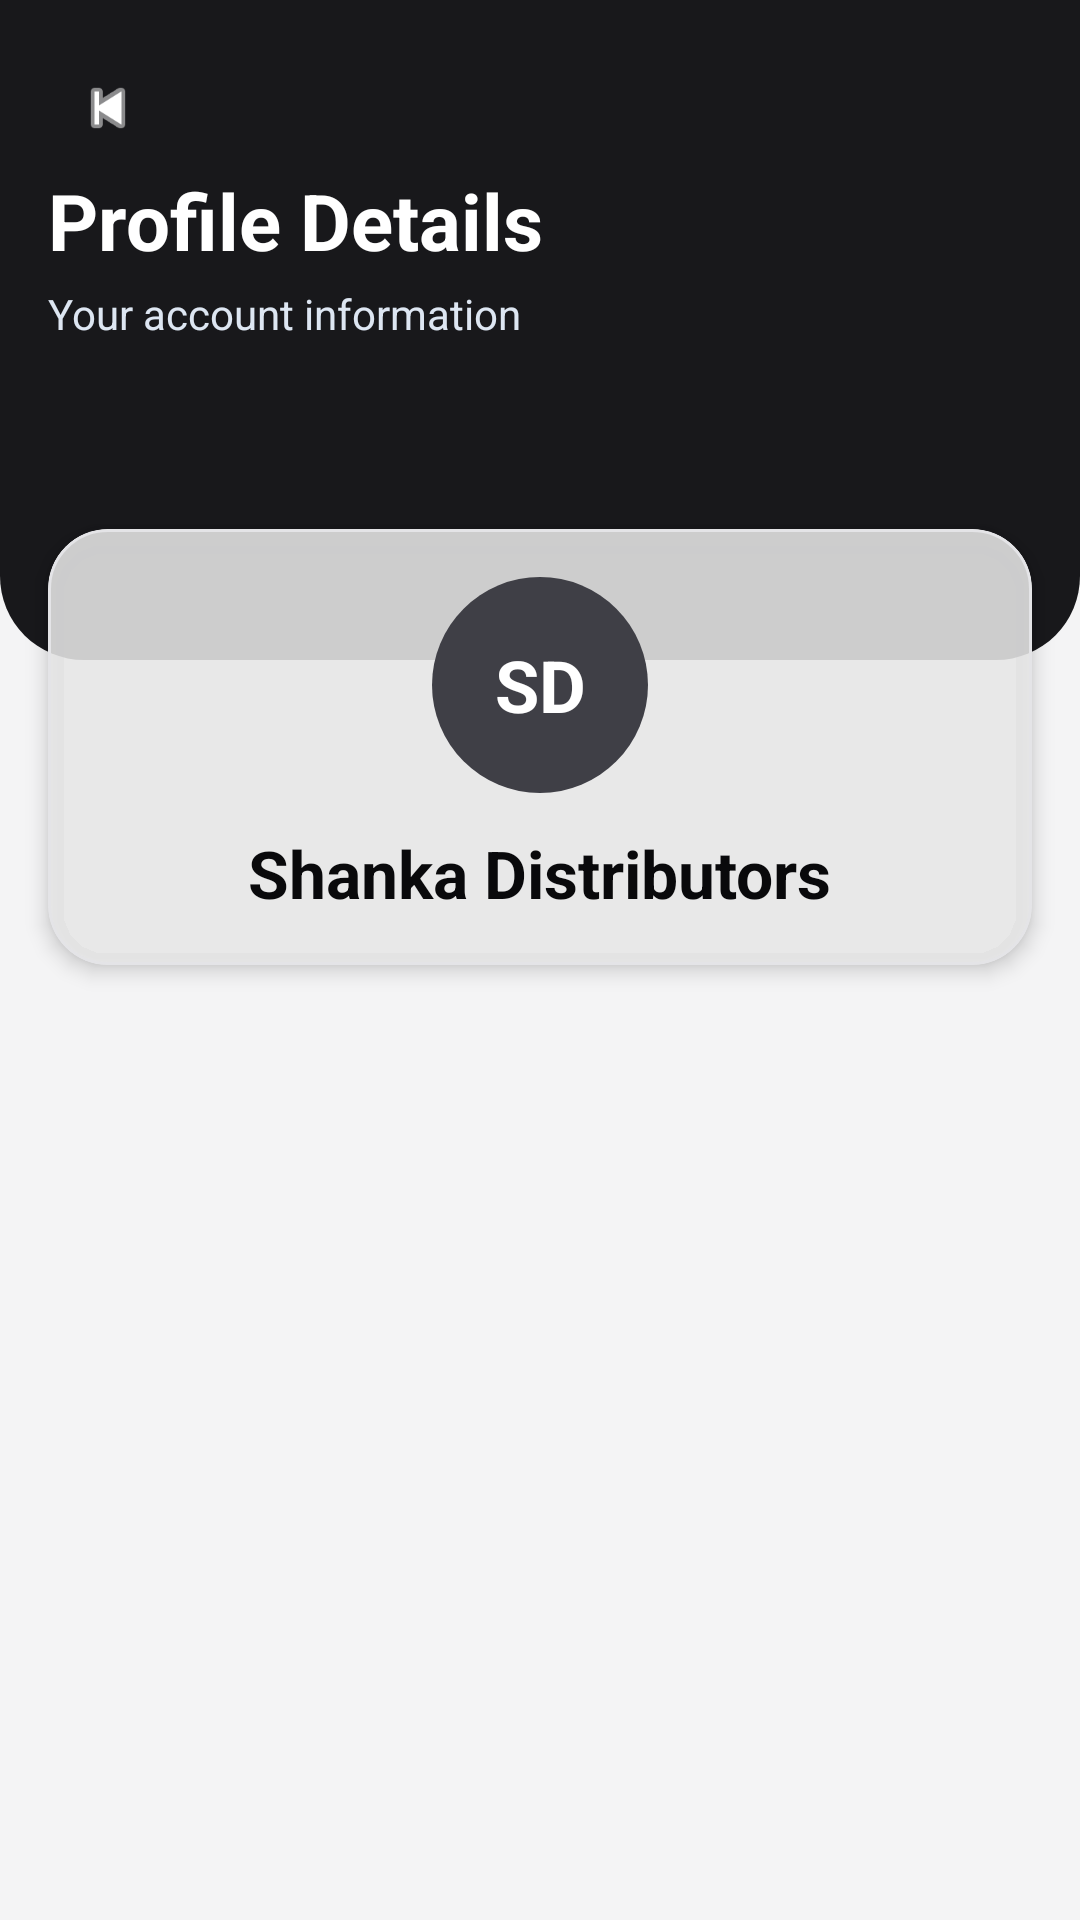

Point at icon controls on the screen. Image size 1080×1920, points as [x,y].
previous: [108,108]
